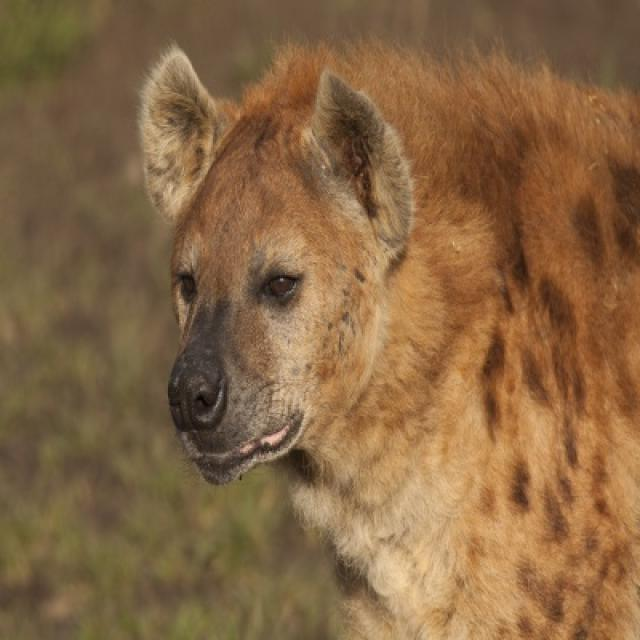hyena: (138, 45, 638, 638)
